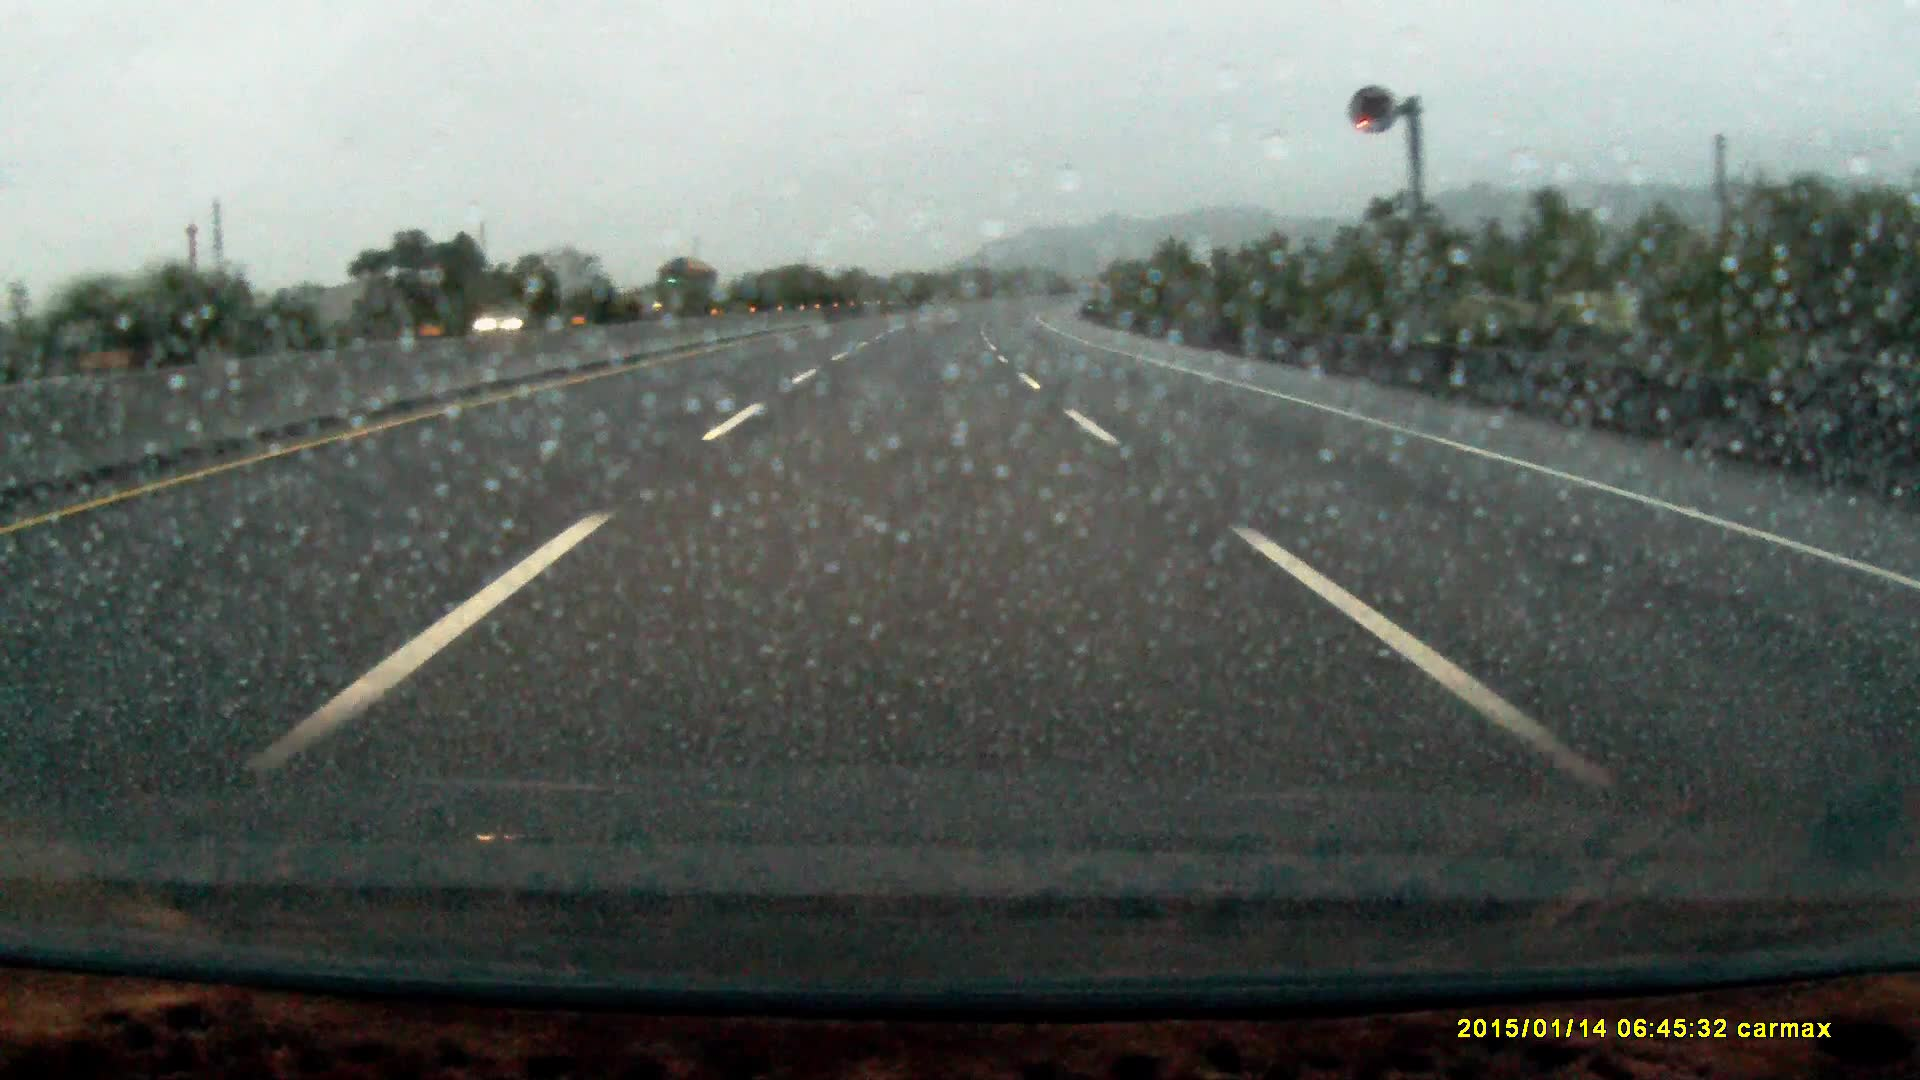vehicle: (649, 261, 723, 319), (476, 302, 554, 331)
